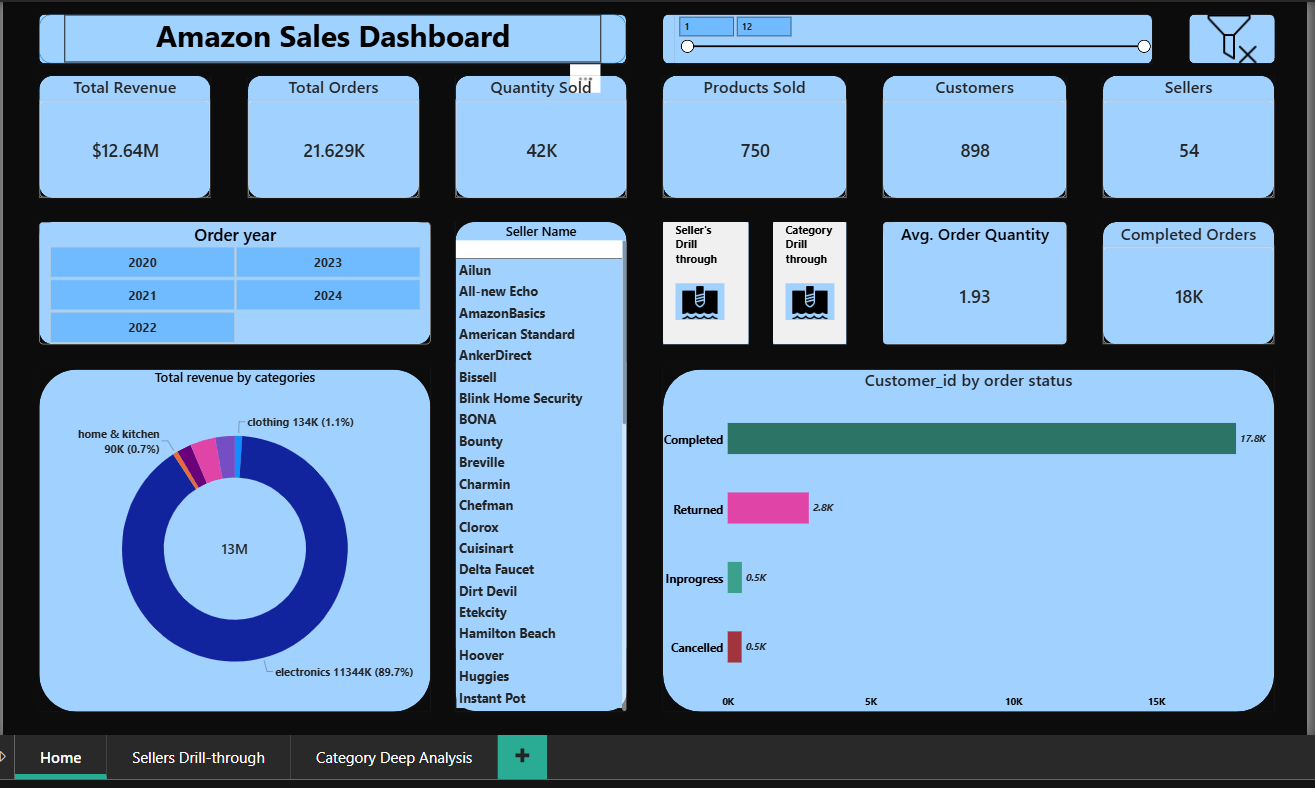

What the dashboard file says about the page in this screenshot:
{"tool":"powerbi","page":{"name":"Home","canvas":[2560,1440],"ordinal":0},"visuals":[{"type":"shape","box":[72,144,336,240],"z":0,"group":"g1"},{"type":"actionButton","box":[1512,432,144,240],"z":0},{"type":"shape","box":[888,144,336,240],"z":1000,"group":"g1"},{"type":"actionButton","box":[1296,432,168,240],"z":1000},{"type":"group","id":"g1","title":"Page1 shape","box":[72,24,2424,1368],"z":2000},{"type":"shape","box":[1728,144,360,240],"z":2000,"group":"g1"},{"type":"shape","box":[480,144,336,240],"z":3000},{"type":"shape","box":[1296,144,360,240],"z":3000,"group":"g1"},{"type":"shape","box":[72,24,1152,96],"z":4000},{"type":"shape","box":[2160,144,336,240],"z":4000,"group":"g1"},{"type":"cardVisual","title":"Total Orders","fields":{"Data":["Count(order_items.order_id)"]},"box":[480,144,336,240],"z":5000},{"type":"shape","box":[72,720,768,672],"z":5000,"group":"g1"},{"type":"cardVisual","title":"Products Sold","fields":{"Data":["Count(order_items.product_id)"]},"box":[1296,144,360,240],"z":6000},{"type":"shape","box":[72,432,768,240],"z":6000,"group":"g1"},{"type":"shape","box":[888,432,336,960],"z":7000,"group":"g1"},{"type":"shape","box":[1728,432,360,240],"z":8000,"group":"g1"},{"type":"donutChart","fields":{"Category":["category.category_name"],"Y":["_measures.Total Across revenue"]},"box":[72,720,768,672],"z":8000},{"type":"shape","box":[2160,432,336,240],"z":9000,"group":"g1"},{"type":"barChart","title":"Customer_id by order status","fields":{"Category":["orders.order_status"],"Y":["CountNonNull(orders.customer_id)"]},"box":[1296,720,1200,672],"z":9000},{"type":"slicer","title":"Order year","fields":{"Values":["orders.Order_year"]},"box":[72,432,768,240],"z":10000},{"type":"shape","box":[1296,720,1200,672],"z":10000,"group":"g1"},{"type":"shape","box":[1296,24,960,96],"z":11000,"group":"g1"},{"type":"cardVisual","title":"Customers","fields":{"Data":["Count(customers.Customer ID)"]},"box":[1728,144,360,240],"z":11000},{"type":"shape","box":[72,24,1152,96],"z":12000,"group":"g1"},{"type":"textbox","box":[120,24,1056,96],"z":12000},{"type":"slicer","fields":{"Values":["orders.Order Month"]},"box":[1320,24,936,96],"z":13000},{"type":"shape","box":[2328,24,168,96],"z":14000},{"type":"cardVisual","title":"Avg. Order Quantity","fields":{"Data":["order_items.avgquantitytransaction"]},"box":[1728,432,360,240],"z":15000},{"type":"tableEx","title":"Seller Name","fields":{"Values":["sellers.seller_name"]},"box":[888,432,336,960],"z":16000},{"type":"cardVisual","title":"Sellers","fields":{"Data":["CountNonNull(sellers.seller_id)"]},"box":[2160,144,336,240],"z":17000},{"type":"cardVisual","title":"Quantity Sold","fields":{"Data":["Sum(order_items.quantity)"]},"box":[888,144,336,240],"z":18000},{"type":"cardVisual","title":"Completed Orders","fields":{"Data":["orders.Successful orders"]},"box":[2160,432,336,240],"z":19000},{"type":"image","box":[1320,552,96,72],"z":20000},{"type":"image","box":[2328,24,168,96],"z":21000},{"type":"textbox","box":[1536,432,96,120],"z":22000},{"type":"image","box":[1536,552,96,72],"z":23000},{"type":"textbox","box":[1320,432,96,120],"z":24000},{"type":"cardVisual","title":"Total Revenue","fields":{"Data":["order_items.Total Across revenue"]},"box":[72,144,336,240],"z":24001}]}

Visuals, with their boxes in screenshot pixels (x1, y1, x2, y2):
shape: [40, 73, 210, 195]
actionButton: [769, 219, 842, 340]
shape: [453, 73, 623, 195]
actionButton: [660, 219, 745, 340]
"Page1 shape" group: [40, 12, 1268, 705]
shape: [879, 73, 1061, 195]
shape: [247, 73, 417, 195]
shape: [660, 73, 842, 195]
shape: [40, 12, 623, 61]
shape: [1098, 73, 1268, 195]
"Total Orders" cardVisual: [247, 73, 417, 195]
shape: [40, 365, 429, 705]
"Products Sold" cardVisual: [660, 73, 842, 195]
shape: [40, 219, 429, 340]
shape: [453, 219, 623, 705]
shape: [879, 219, 1061, 340]
donutChart - category.category_name x _measures.Total Across revenue: [40, 365, 429, 705]
shape: [1098, 219, 1268, 340]
"Customer_id by order status" barChart: [660, 365, 1268, 705]
"Order year" slicer: [40, 219, 429, 340]
shape: [660, 365, 1268, 705]
shape: [660, 12, 1146, 61]
"Customers" cardVisual: [879, 73, 1061, 195]
shape: [40, 12, 623, 61]
textbox: [64, 12, 599, 61]
slicer - orders.Order Month: [672, 12, 1146, 61]
shape: [1183, 12, 1268, 61]
"Avg. Order Quantity" cardVisual: [879, 219, 1061, 340]
"Seller Name" tableEx: [453, 219, 623, 705]
"Sellers" cardVisual: [1098, 73, 1268, 195]
"Quantity Sold" cardVisual: [453, 73, 623, 195]
"Completed Orders" cardVisual: [1098, 219, 1268, 340]
image: [672, 280, 721, 316]
image: [1183, 12, 1268, 61]
textbox: [782, 219, 830, 280]
image: [782, 280, 830, 316]
textbox: [672, 219, 721, 280]
"Total Revenue" cardVisual: [40, 73, 210, 195]
